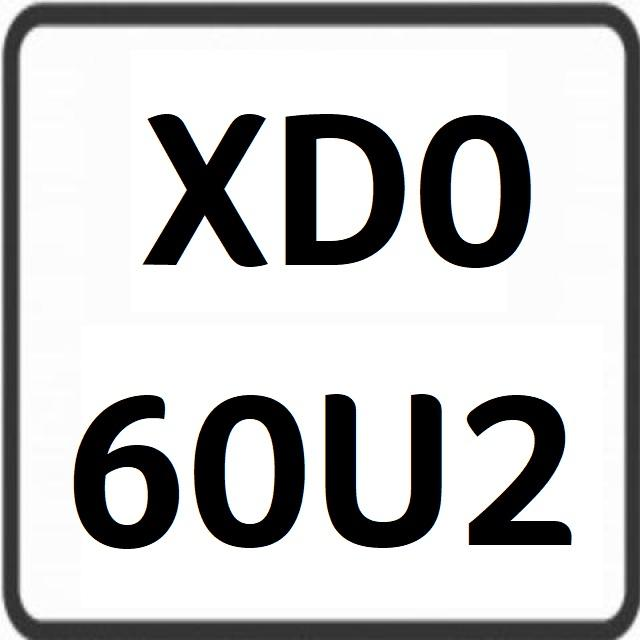2: (466, 381, 585, 568)
D: (280, 102, 412, 287)
U: (319, 365, 444, 557)
X: (134, 89, 274, 289)
